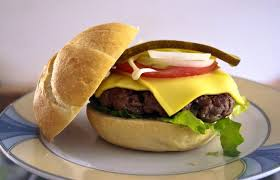hamburger: (87, 18, 242, 160)
